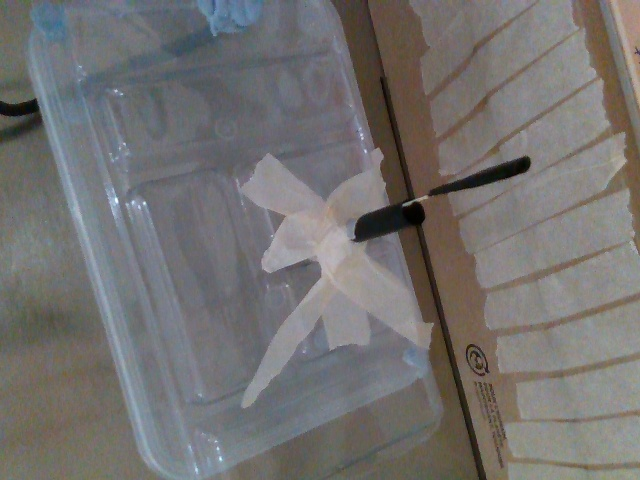test_strip: (401, 155, 528, 207)
